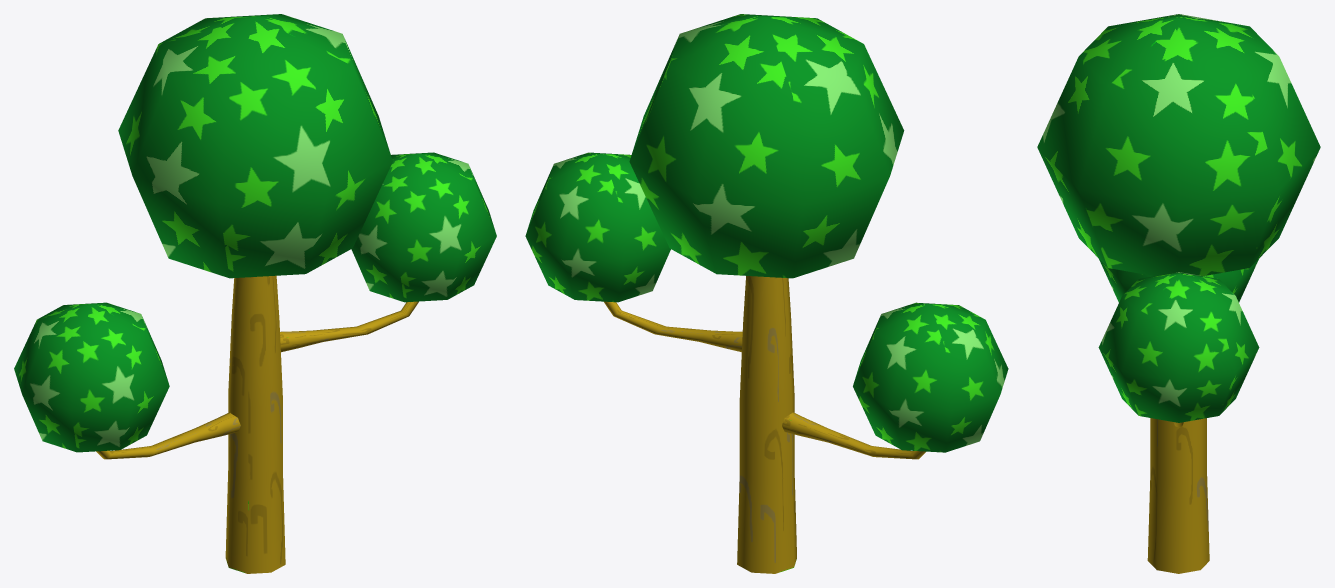
Rendered from Tree2.FBX.
The picture shows the model from 3 angles, left to right: view 1: azimuth 30°, elevation 25°; view 2: azimuth 150°, elevation 25°; view 3: azimuth 270°, elevation 25°; orthographic projection.
Parts seen in each view (by area): view 1: Leaves, Leaves002, Leaves001, Tree, Branch001, Branch; view 2: Leaves, Leaves002, Leaves001, Tree, Branch001, Branch; view 3: Leaves, Leaves001, Tree, Leaves002.
Boxes of the visible parts, left/top/right/bottom form: Leaves: left=118, top=14, right=392, bottom=278; Leaves002: left=14, top=302, right=169, bottom=452; Leaves001: left=351, top=152, right=496, bottom=302; Tree: left=225, top=275, right=285, bottom=573; Branch001: left=96, top=412, right=240, bottom=459; Branch: left=280, top=301, right=418, bottom=352; Leaves: left=629, top=14, right=904, bottom=278; Leaves002: left=853, top=302, right=1008, bottom=452; Leaves001: left=525, top=152, right=670, bottom=302; Tree: left=737, top=276, right=796, bottom=573; Branch001: left=782, top=412, right=925, bottom=459; Branch: left=604, top=301, right=742, bottom=352; Leaves: left=1037, top=14, right=1320, bottom=275; Leaves001: left=1098, top=272, right=1259, bottom=422; Tree: left=1147, top=418, right=1209, bottom=573; Leaves002: left=1099, top=259, right=1258, bottom=302.
Size of the model in its own units: 7.23 by 8.05 by 3.81.
